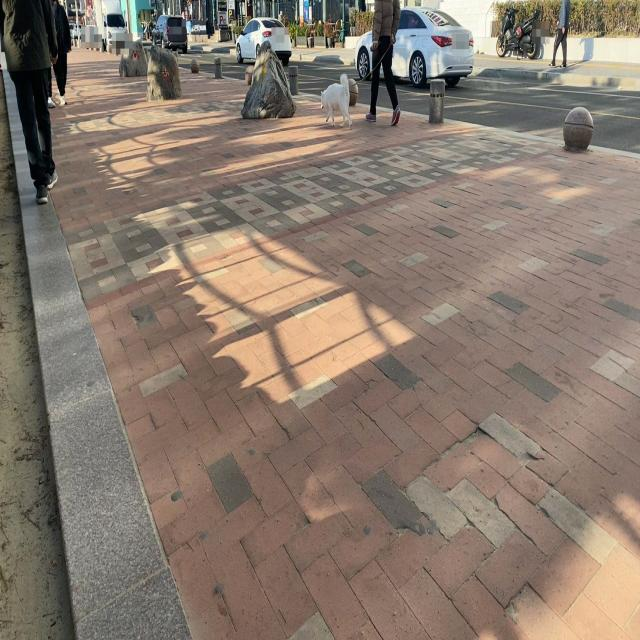Leashed_Dog: (321, 33, 382, 129)
